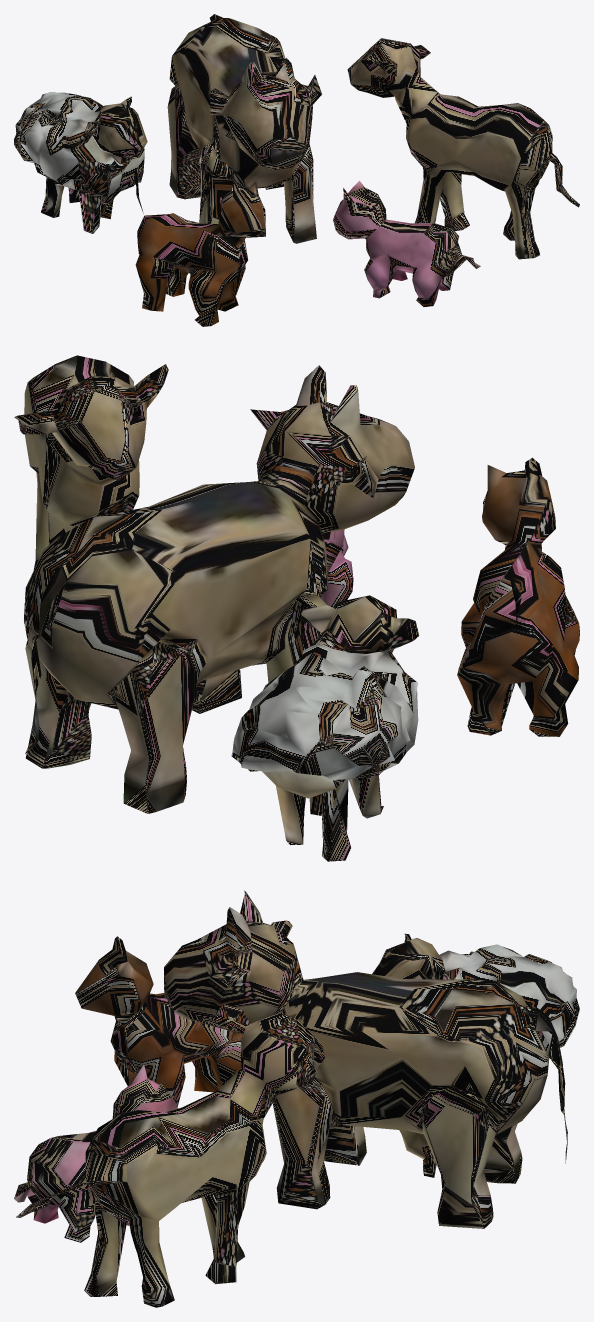
The model's file is gso_farm_animal.glb.
The picture shows the model from 3 angles, top to bottom: view 1: azimuth 30°, elevation 25°; view 2: azimuth 150°, elevation 25°; view 3: azimuth 270°, elevation 25°; orthographic projection. The views are drawn at different scales.
Parts seen in each view (by area): view 1: z-up-to-y-up; view 2: z-up-to-y-up; view 3: z-up-to-y-up.
Boxes of the visible parts, x1,y1,x2,y2 form: z-up-to-y-up: [14, 14, 579, 326]; z-up-to-y-up: [14, 355, 579, 861]; z-up-to-y-up: [14, 890, 579, 1307].
Bounding box in the file's own units: 0.1756 × 0.0916 × 0.1739.
Materials: 1 (1 with a texture image).
